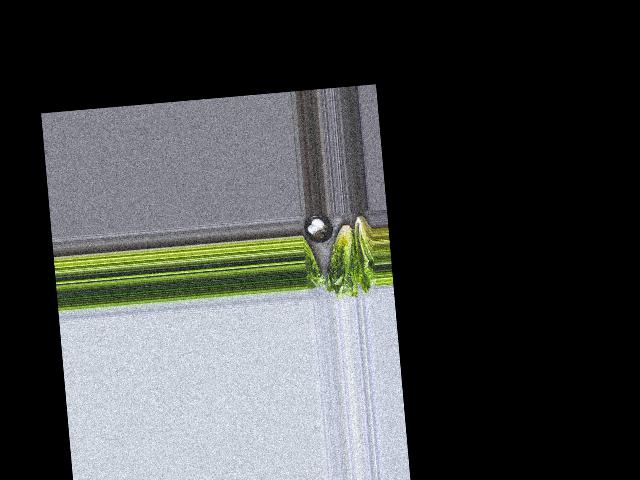lettuce: (349, 210, 376, 288)
